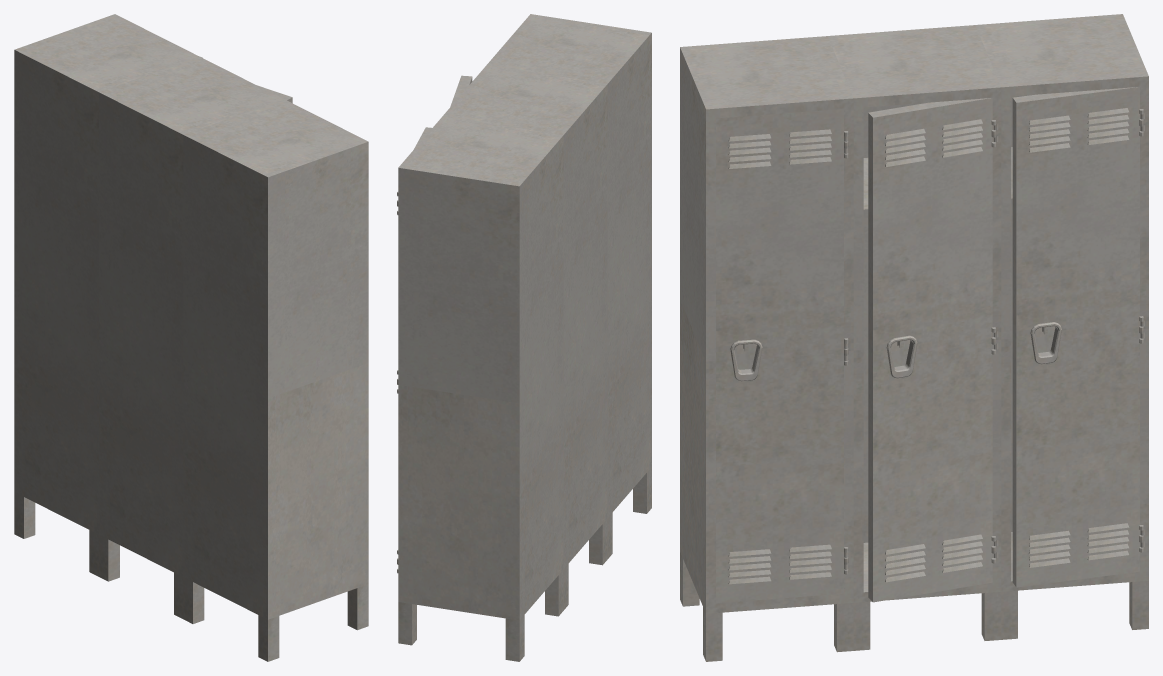
File: Archery_Locker01.fbx
3 views of the same model, side by side, from view 1: azimuth 30°, elevation 25°; view 2: azimuth 150°, elevation 25°; view 3: azimuth 270°, elevation 25° (orthographic). The views are drawn at different scales.
Visible parts, largest first — view 1: ItemBox_Locker_01_0_5; view 2: ItemBox_Locker_01_0_5; view 3: ItemBox_Locker_01_0_5.
Boxes of the visible parts, x1,y1,x2,y2 form: ItemBox_Locker_01_0_5: (14, 14, 368, 661); ItemBox_Locker_01_0_5: (397, 14, 651, 661); ItemBox_Locker_01_0_5: (680, 14, 1148, 661).
Bounding box in the file's own units: 88.08 × 238 × 183.
1 material, 1 textured.
